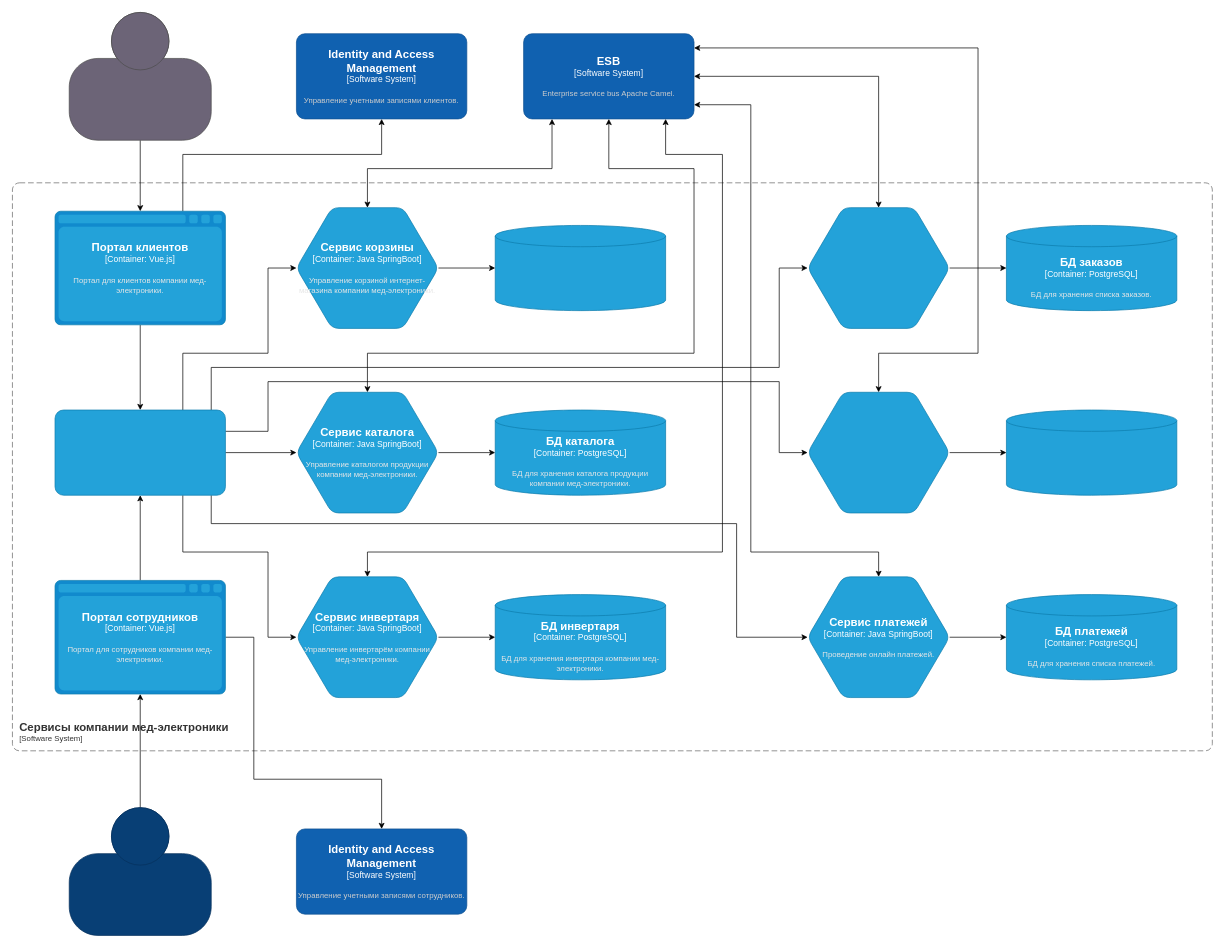
Some shapes in this 1225 by 948 pixel diagram are drawn without their labels. Each missing label, with the centre of its shape:
"API Gateway [Container: Nginx] Распределение API запросов по сервисам." goes at (139,452).
"БД корзины [Container: PostgreSQL] БД для корзины." goes at (580,268).
"БД логистики [Container: PostgreSQL] БД для логистики." goes at (1091,452).
"Клиент [Person] Клиент компании мед-электроники." goes at (140,76).
"Сервис заказов [Container: Java SpringBoot] Управление списком заказов." goes at (878,267).
"Сервис логистики [Container: Java SpringBoot] Управление доставкой." goes at (878,452).
"Сотрудник [Person] Сотрудник компании мед-электроники." goes at (140,871).
